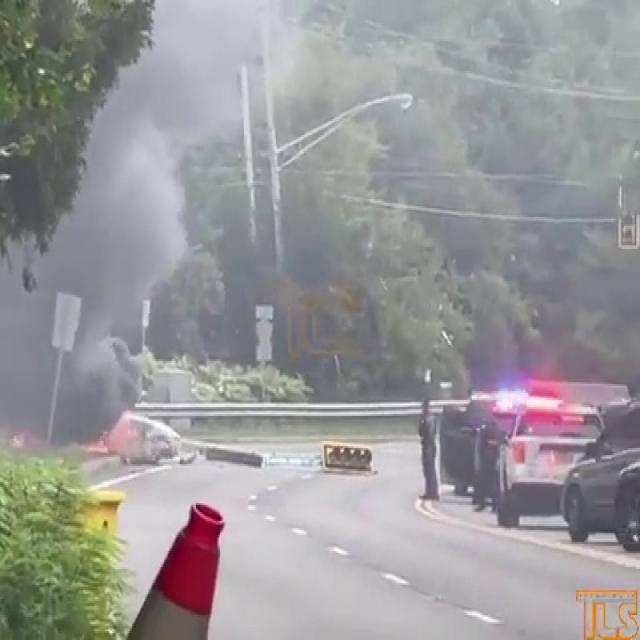Smoke: (0, 0, 272, 443)
